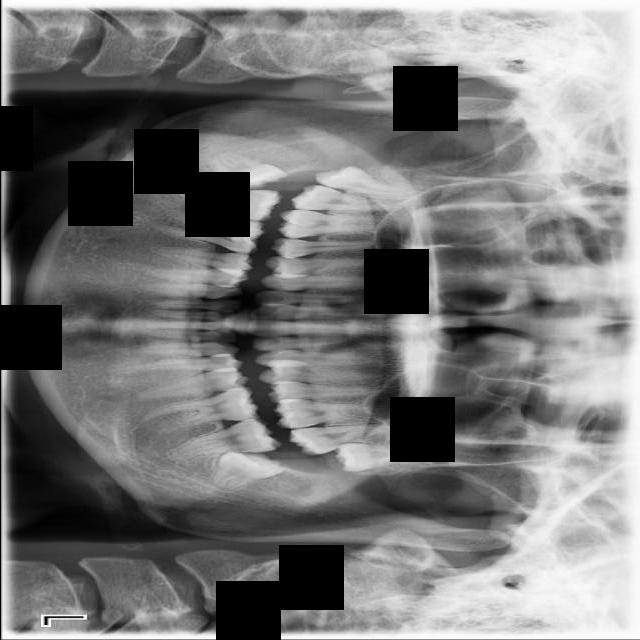3M ESPE Implant: (310, 156, 420, 208)
52: (218, 213, 267, 259)
73: (29, 616, 39, 626)
BioHorizons Implant: (287, 420, 402, 458)
BioLife Implant: (330, 443, 429, 472)
Biomet 3i Implant: (204, 436, 287, 495)
Blue Sky Bio Implant: (172, 415, 282, 462)
Caries: (289, 184, 402, 212)
Implant: (175, 185, 283, 224)
Keystone Dental Implant: (211, 147, 288, 193)
